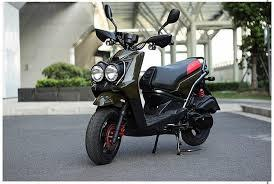motorcycle: (81, 2, 219, 166)
